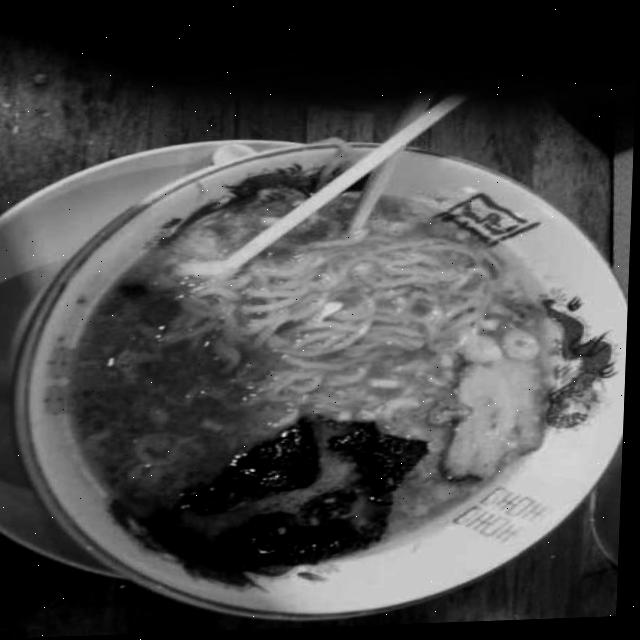面条主食: (19, 125, 634, 602)
